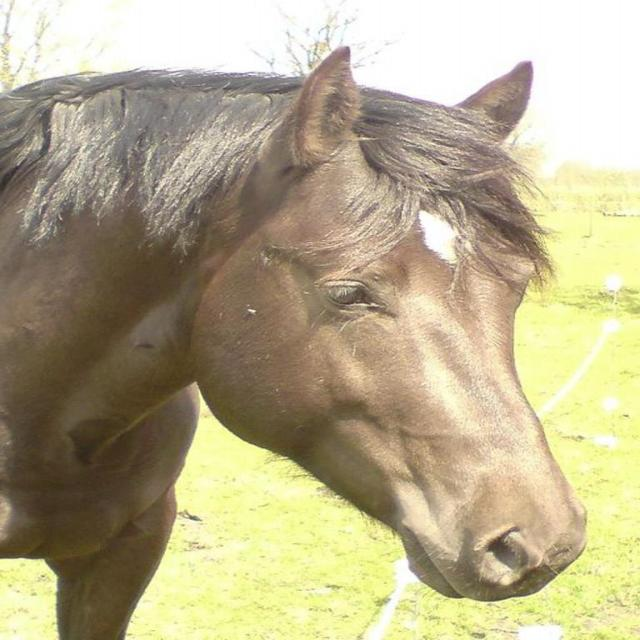Horse: (0, 39, 590, 639)
